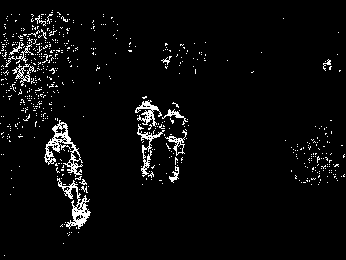person: (44, 119, 91, 231), (135, 93, 165, 180), (160, 100, 190, 184)
